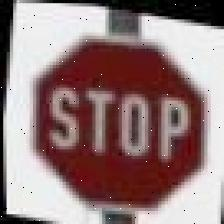Stop: (17, 14, 218, 222)
